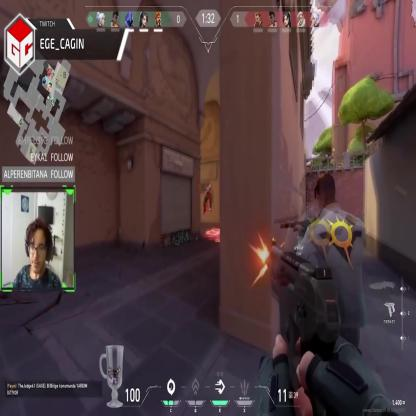enemy: (203, 182, 213, 212)
enemy_head: (207, 182, 209, 189)
